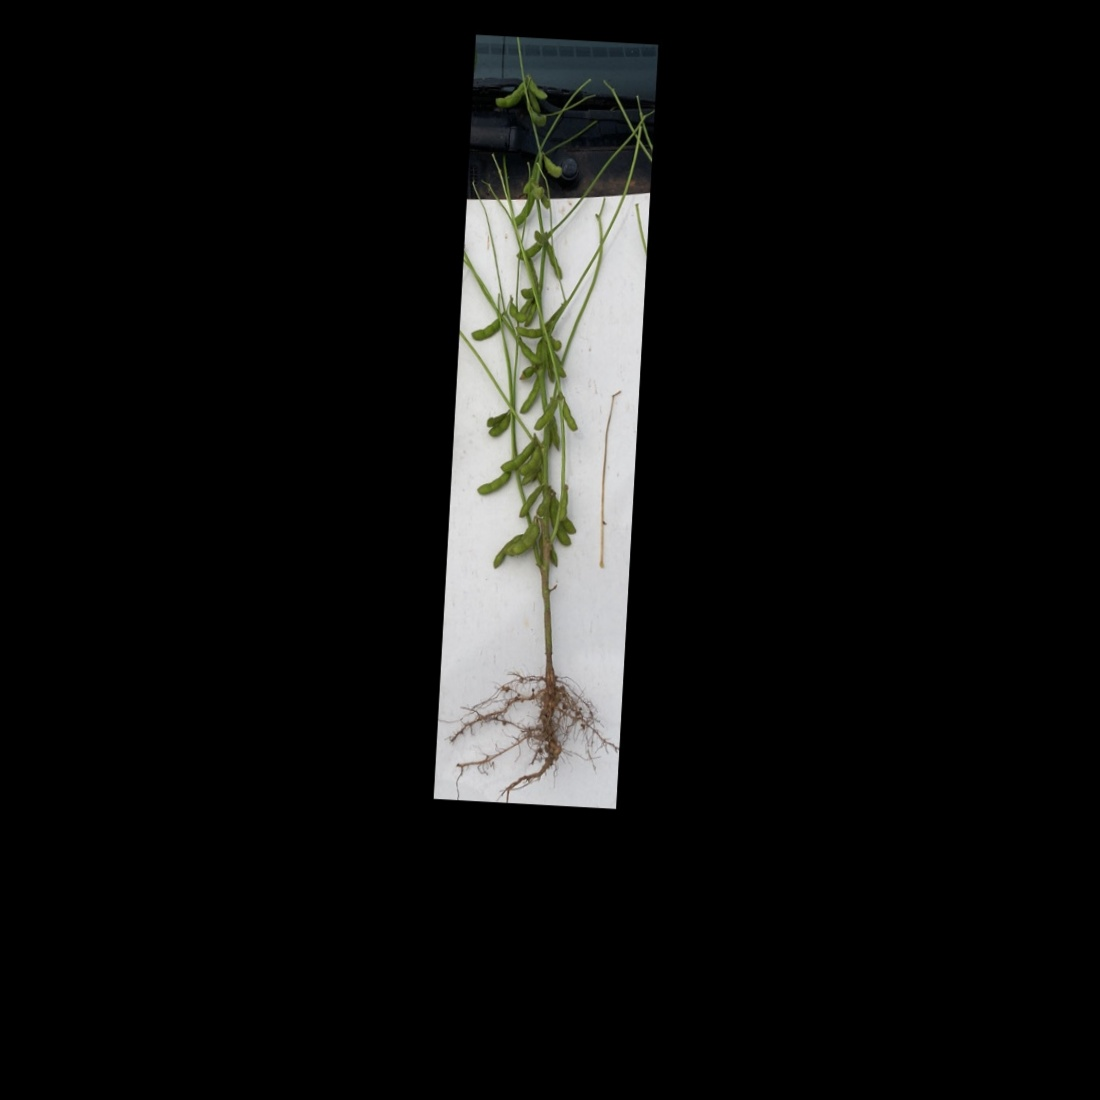pod: (497, 437, 538, 476), (532, 393, 563, 435), (508, 521, 543, 558), (474, 468, 514, 498), (518, 374, 541, 419), (468, 313, 502, 343), (514, 336, 545, 367), (561, 394, 581, 434), (487, 412, 511, 439)
soy: (442, 50, 645, 769)
